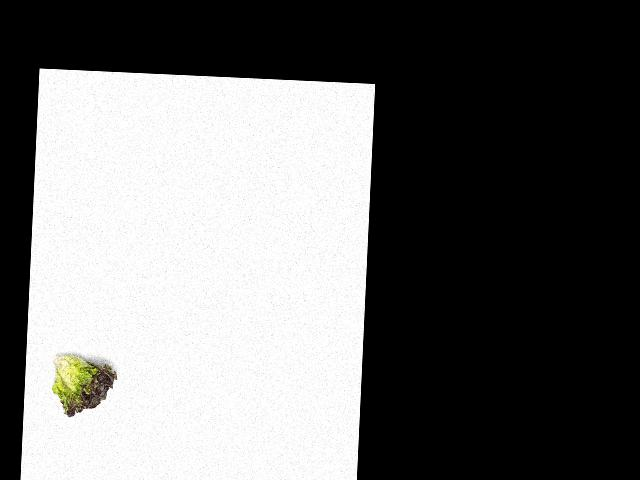lettuce: (48, 353, 122, 418)
